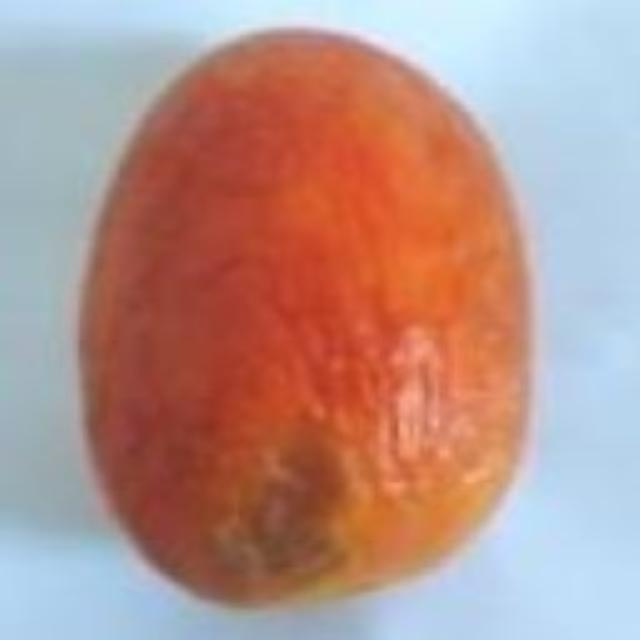defect: (73, 21, 543, 620)
